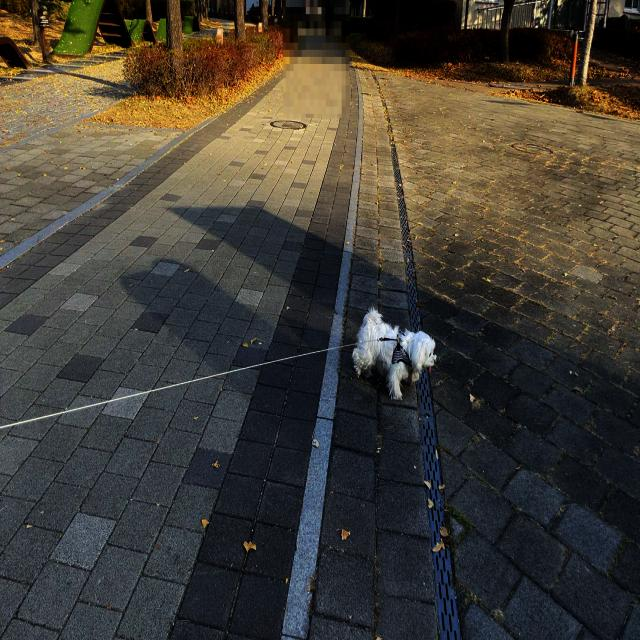Dog: (350, 302, 439, 402)
